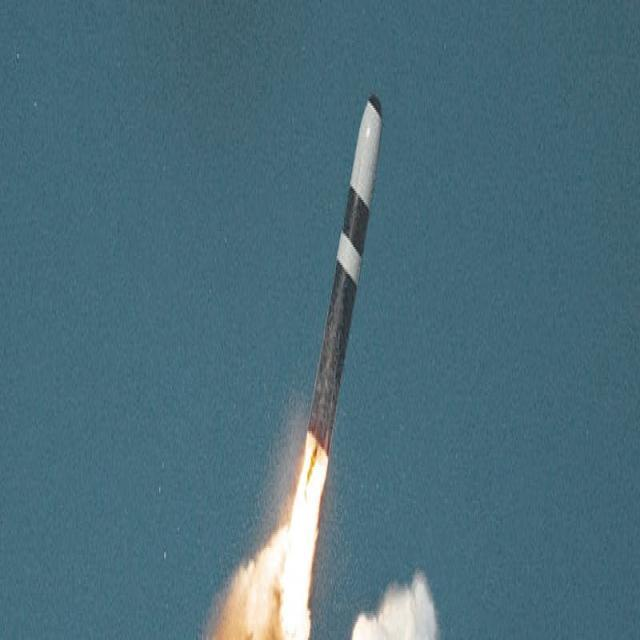missile: (302, 88, 384, 457)
